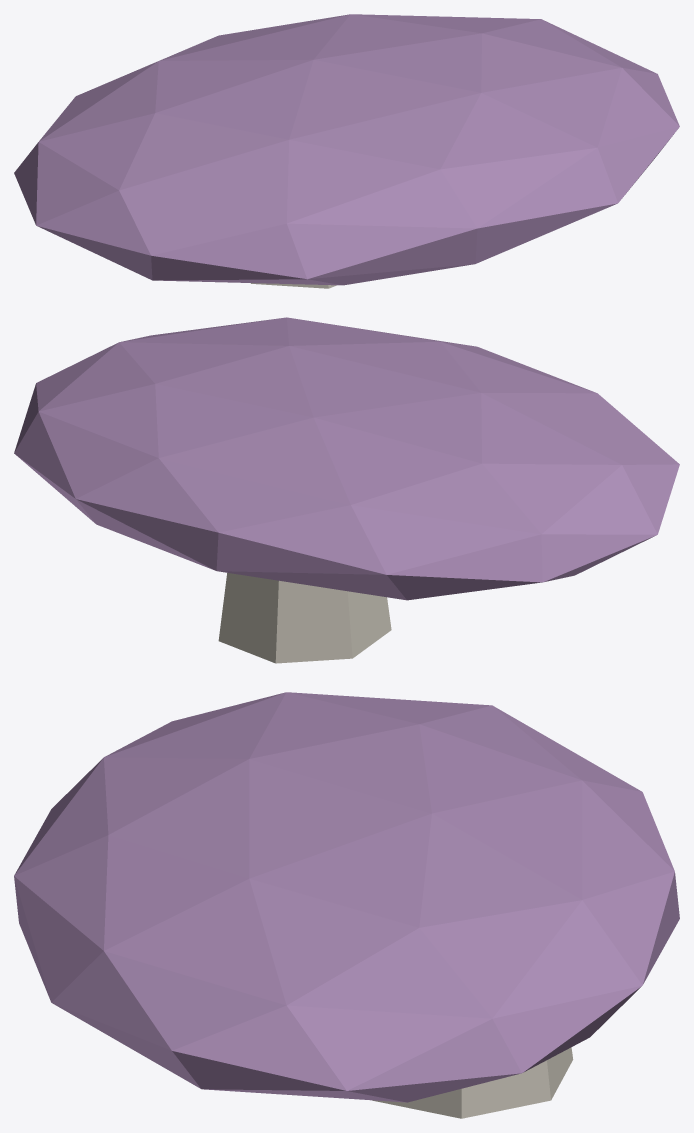
The model's file is earliella-scabrosa.glb.
The picture shows the model from 3 angles, top to bottom: view 1: azimuth 30°, elevation 25°; view 2: azimuth 150°, elevation 25°; view 3: azimuth 270°, elevation 25°; orthographic projection. The views are drawn at different scales.
Visible parts, largest first — view 1: shelf; view 2: shelf, stalk; view 3: shelf, stalk.
Boxes of the visible parts, x1,y1,x2,y2 form: shelf: [14, 14, 679, 285]; shelf: [14, 317, 679, 600]; stalk: [218, 573, 391, 663]; shelf: [14, 692, 679, 1102]; stalk: [372, 1047, 573, 1118].
Bounding box in the file's own units: 0.48 × 0.1484 × 0.3488.
